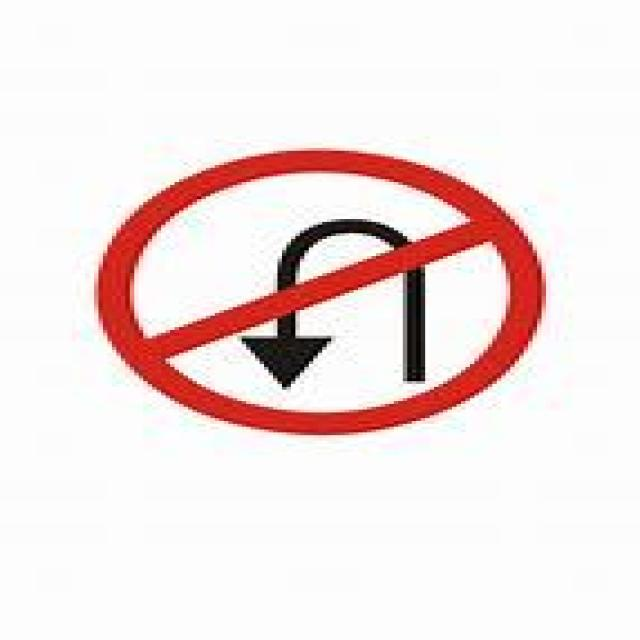U_TURN_PROHIBITED: (82, 140, 558, 450)
